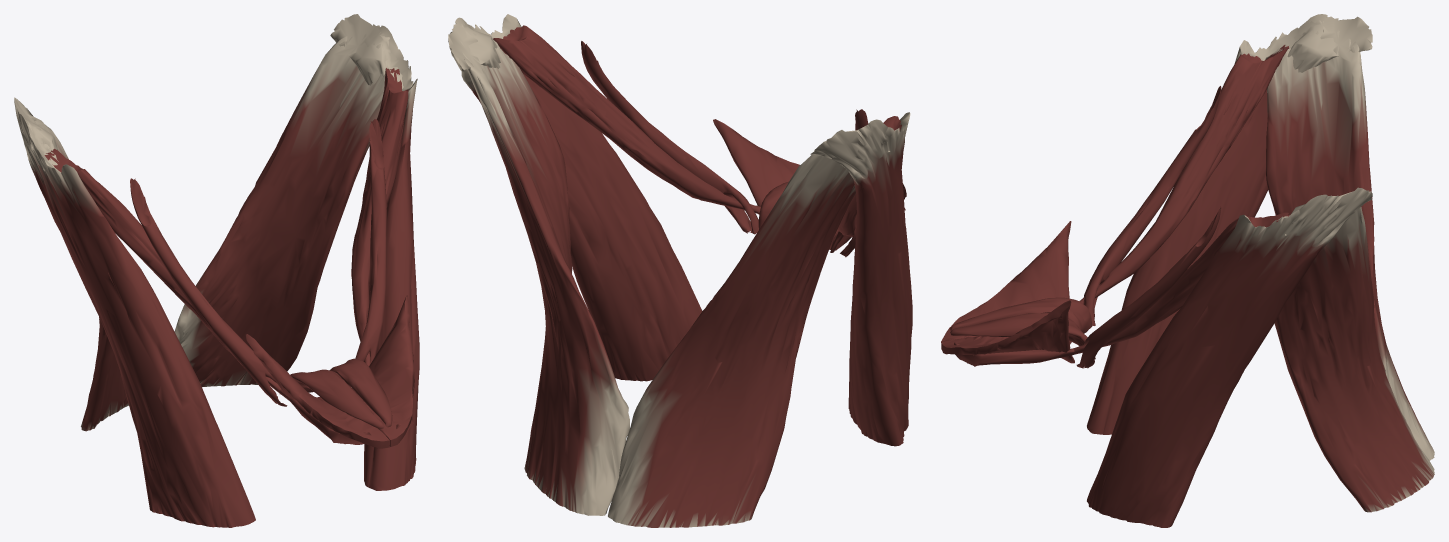
The model's file is musculo_pescoco.glb.
3 views of the same model, side by side, from view 1: azimuth 30°, elevation 25°; view 2: azimuth 150°, elevation 25°; view 3: azimuth 270°, elevation 25° (orthographic). The views are drawn at different scales.
Parts seen in each view (by area): view 1: Splenius capitis muscle.l, Sternocleidomastoid muscle.r, Sternocleidomastoid muscle.l, Posterior belly of digastric muscle.l, Stylohyoid muscle.r, Stylohyoid muscle.l, Mylohyoid muscle.l, Posterior belly of digastric muscle.r, Splenius capitis muscle.r, Mylohyoid muscle.r, Geniohyoid muscle.r, Geniohyoid muscle.l (+1 smaller); view 2: Splenius capitis muscle.r, Splenius capitis muscle.l, Sternocleidomastoid muscle.l, Sternocleidomastoid muscle.r, Posterior belly of digastric muscle.l, Stylohyoid muscle.l, Mylohyoid muscle.l, Posterior belly of digastric muscle.r, Stylohyoid muscle.r; view 3: Sternocleidomastoid muscle.l, Splenius capitis muscle.l, Splenius capitis muscle.r, Sternocleidomastoid muscle.r, Posterior belly of digastric muscle.r, Mylohyoid muscle.r, Stylohyoid muscle.r, Mylohyoid muscle.l, Stylohyoid muscle.l, Posterior belly of digastric muscle.l, Geniohyoid muscle.r, Geniohyoid muscle.l (+1 smaller).
Part boxes in pixels (x1=…): Splenius capitis muscle.l: x1=174, y1=32, x2=403, y2=387; Sternocleidomastoid muscle.r: x1=14, y1=97, x2=255, y2=527; Sternocleidomastoid muscle.l: x1=330, y1=14, x2=419, y2=490; Posterior belly of digastric muscle.l: x1=351, y1=68, x2=408, y2=365; Stylohyoid muscle.r: x1=130, y1=178, x2=287, y2=406; Stylohyoid muscle.l: x1=355, y1=119, x2=386, y2=363; Mylohyoid muscle.l: x1=351, y1=295, x2=414, y2=446; Posterior belly of digastric muscle.r: x1=44, y1=148, x2=280, y2=392; Splenius capitis muscle.r: x1=24, y1=114, x2=128, y2=431; Mylohyoid muscle.r: x1=245, y1=334, x2=389, y2=448; Geniohyoid muscle.r: x1=290, y1=369, x2=384, y2=428; Geniohyoid muscle.l: x1=329, y1=358, x2=392, y2=427; Splenius capitis muscle.r: x1=608, y1=134, x2=887, y2=527; Splenius capitis muscle.l: x1=459, y1=22, x2=629, y2=515; Sternocleidomastoid muscle.l: x1=448, y1=14, x2=702, y2=381; Sternocleidomastoid muscle.r: x1=810, y1=112, x2=912, y2=446; Posterior belly of digastric muscle.l: x1=493, y1=25, x2=760, y2=214; Stylohyoid muscle.l: x1=581, y1=41, x2=758, y2=234; Mylohyoid muscle.l: x1=713, y1=119, x2=799, y2=206; Posterior belly of digastric muscle.r: x1=838, y1=116, x2=901, y2=237; Stylohyoid muscle.r: x1=830, y1=109, x2=868, y2=257; Sternocleidomastoid muscle.l: x1=1087, y1=187, x2=1372, y2=527; Splenius capitis muscle.l: x1=1274, y1=207, x2=1434, y2=512; Splenius capitis muscle.r: x1=1265, y1=20, x2=1434, y2=460; Sternocleidomastoid muscle.r: x1=1087, y1=14, x2=1372, y2=434; Posterior belly of digastric muscle.r: x1=1079, y1=45, x2=1289, y2=303; Mylohyoid muscle.r: x1=941, y1=221, x2=1071, y2=344; Stylohyoid muscle.r: x1=1083, y1=86, x2=1221, y2=325; Mylohyoid muscle.l: x1=941, y1=300, x2=1074, y2=363; Stylohyoid muscle.l: x1=1076, y1=207, x2=1221, y2=368; Posterior belly of digastric muscle.l: x1=1073, y1=212, x2=1289, y2=354; Geniohyoid muscle.r: x1=950, y1=297, x2=1092, y2=333; Geniohyoid muscle.l: x1=950, y1=312, x2=1087, y2=346.
Bounding box in the file's own units: 0.1229 × 0.1124 × 0.1392.
